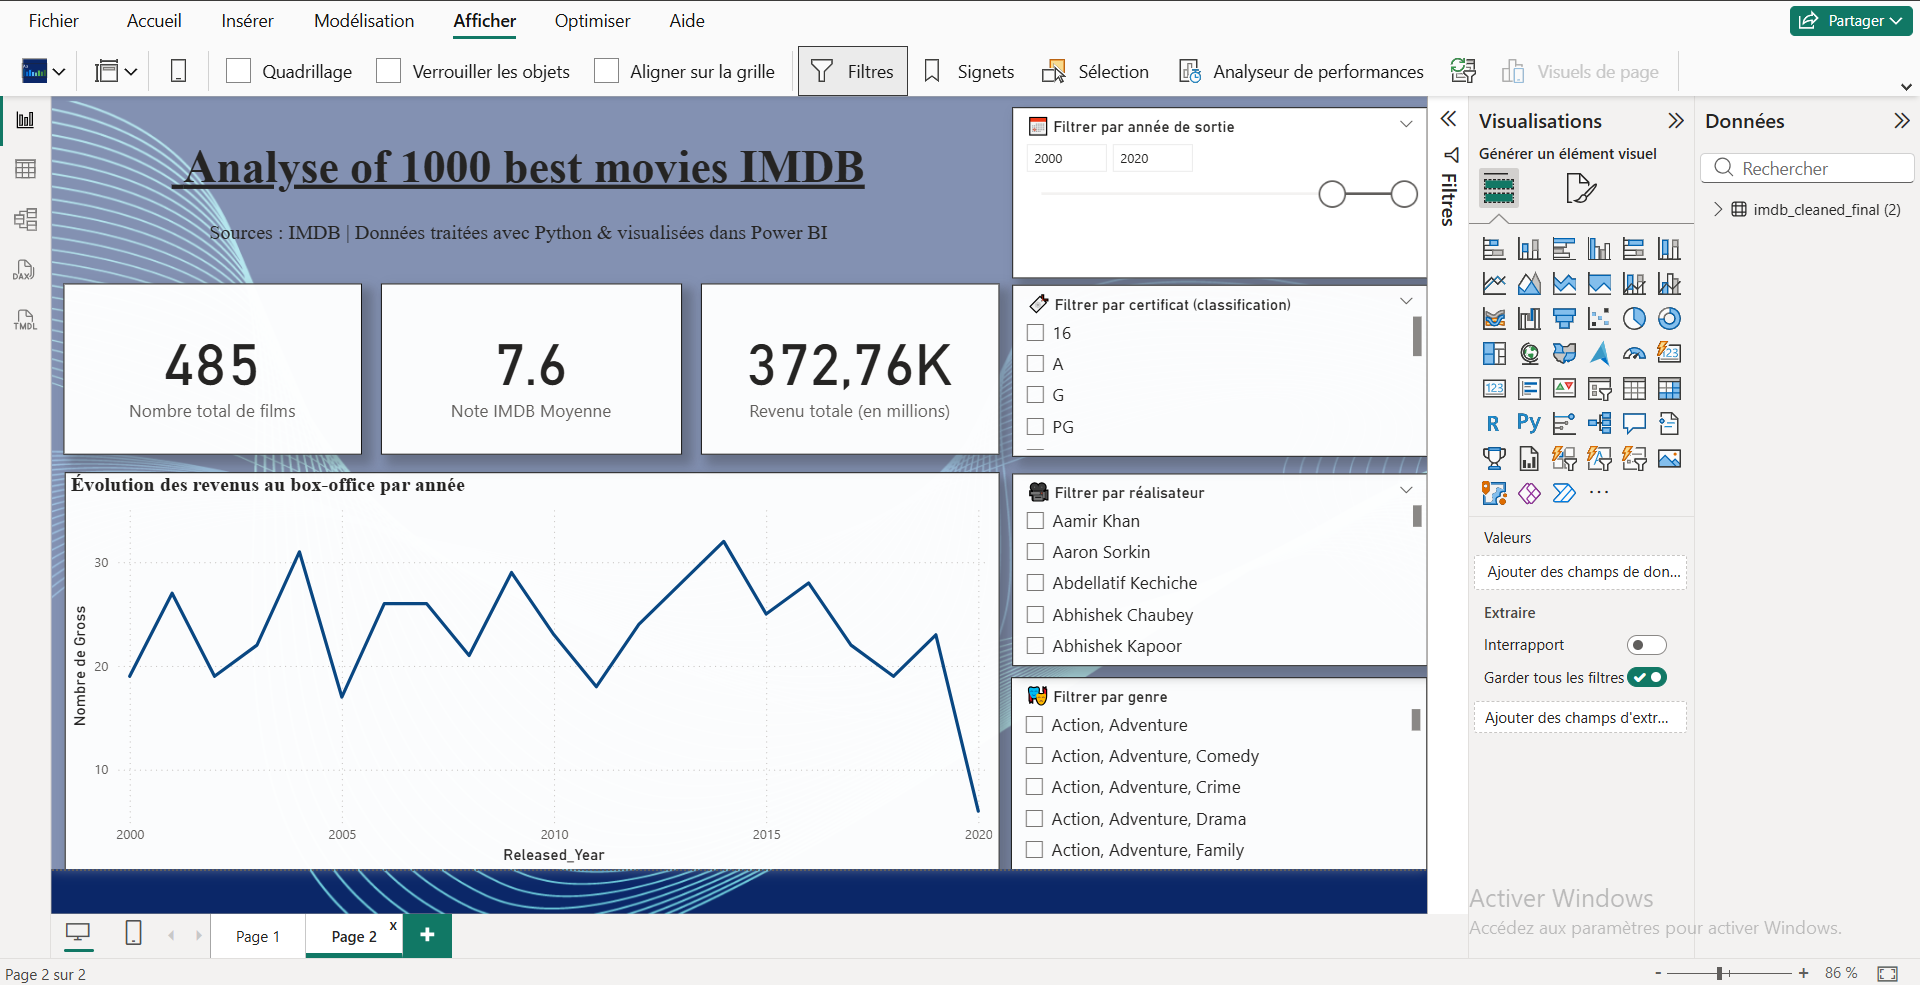

Layout of this report page (visuals, bound fields, positions):
{"tool":"powerbi","page":{"name":"Page 2","canvas":[1280,720],"ordinal":1},"visuals":[{"type":"lineChart","title":"Évolution des revenus au box-office par année","fields":{"Category":["imdb_cleaned_final (2).Released_Year"],"Y":["CountNonNull(imdb_cleaned_final (2).Gross)"]},"box":[12.6,350.5,869.2,370.1],"z":0},{"type":"card","fields":{"Values":["CountNonNull(imdb_cleaned_final (2).Series_Title)"]},"box":[12.1,174.9,277.5,159.3],"z":1000},{"type":"card","fields":{"Values":["Min(imdb_cleaned_final (2).IMDB_Rating)"]},"box":[306.4,174.9,279.9,159.3],"z":2000},{"type":"card","fields":{"Values":["Sum(imdb_cleaned_final (2).Gross_Millions)"]},"box":[604.4,174.9,277.5,159.3],"z":3000},{"type":"slicer","fields":{"Values":["imdb_cleaned_final (2).Genre"]},"box":[893.3,540.7,387,179.8],"z":4000},{"type":"slicer","fields":{"Values":["imdb_cleaned_final (2).Released_Year"]},"box":[893.7,10,386.3,159],"z":5000},{"type":"slicer","fields":{"Values":["imdb_cleaned_final (2).Director"]},"box":[893.7,350.6,386.3,179.6],"z":6000},{"type":"slicer","fields":{"Values":["imdb_cleaned_final (2).Certificate"]},"box":[893.7,175.3,386.3,159.6],"z":7000},{"type":"textbox","box":[0,36.5,869.2,64.5],"z":8000},{"type":"textbox","box":[108,112.2,653.3,39.3],"z":9000}]}

Visuals, with their boxes on the page's 1280x720 design canvas (x1, y1, x2, y2). These are canvas units, not pixel positions in the 1920x985 screenshot, which may show the page scaled, cropped or inside an application window:
"Évolution des revenus au box-office par année" lineChart: (x1=13, y1=350, x2=882, y2=721)
card - CountNonNull(imdb_cleaned_final (2).Series_Title): (x1=12, y1=175, x2=290, y2=334)
card - Min(imdb_cleaned_final (2).IMDB_Rating): (x1=306, y1=175, x2=586, y2=334)
card - Sum(imdb_cleaned_final (2).Gross_Millions): (x1=604, y1=175, x2=882, y2=334)
slicer - imdb_cleaned_final (2).Genre: (x1=893, y1=541, x2=1280, y2=720)
slicer - imdb_cleaned_final (2).Released_Year: (x1=894, y1=10, x2=1280, y2=169)
slicer - imdb_cleaned_final (2).Director: (x1=894, y1=351, x2=1280, y2=530)
slicer - imdb_cleaned_final (2).Certificate: (x1=894, y1=175, x2=1280, y2=335)
textbox: (x1=0, y1=36, x2=869, y2=101)
textbox: (x1=108, y1=112, x2=761, y2=152)
